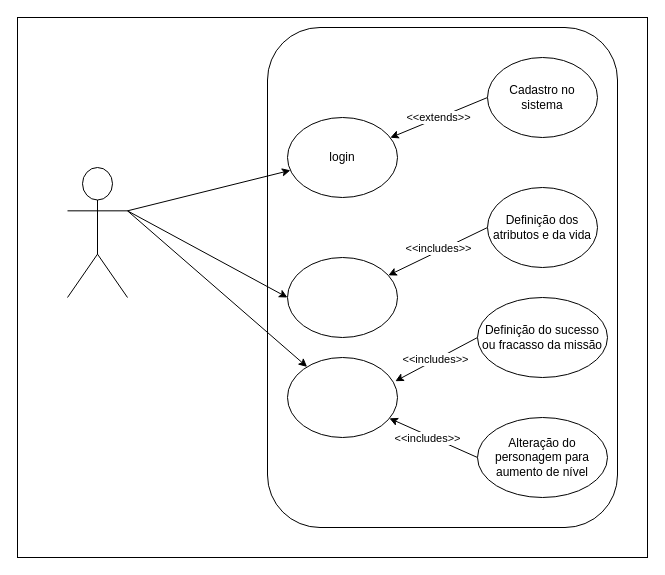
Image size: 665x575. Some labels were removed from this diagram. Here are the shapes that lost their labels. From the top down, the box of each, then its label:
(66, 166, 128, 298): Jogador
(286, 256, 398, 338): Criação de personagem
(286, 356, 398, 438): Realização de missões
